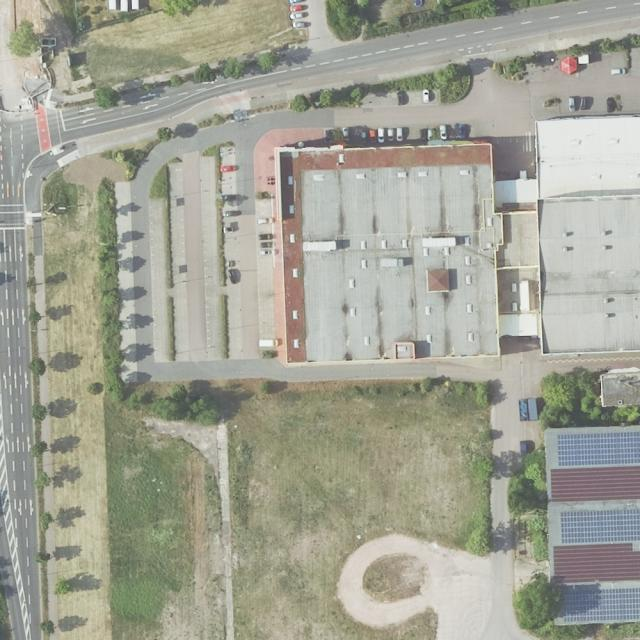PV: (562, 587, 640, 623), (560, 508, 640, 543), (557, 432, 640, 465)
